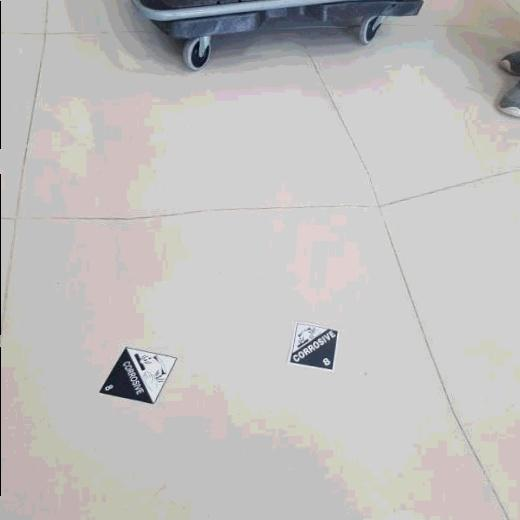corrosive: (96, 344, 179, 407), (286, 320, 340, 374)
